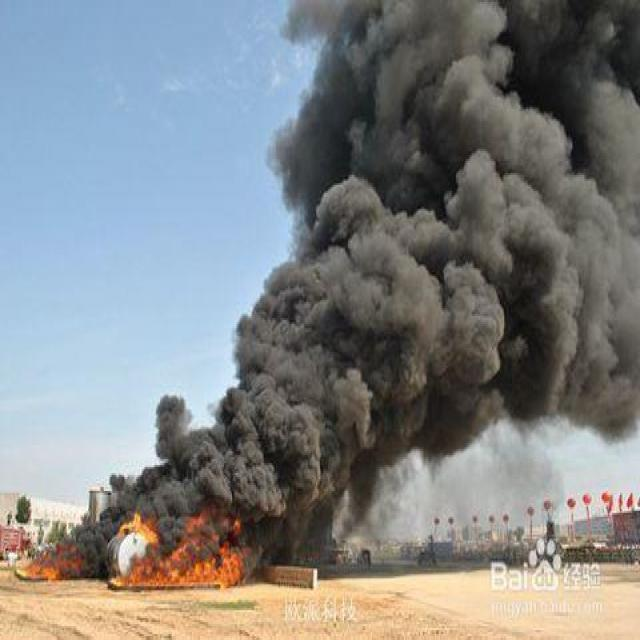Fire: (122, 514, 270, 596), (22, 538, 81, 594)
Smoke: (88, 0, 640, 509)
